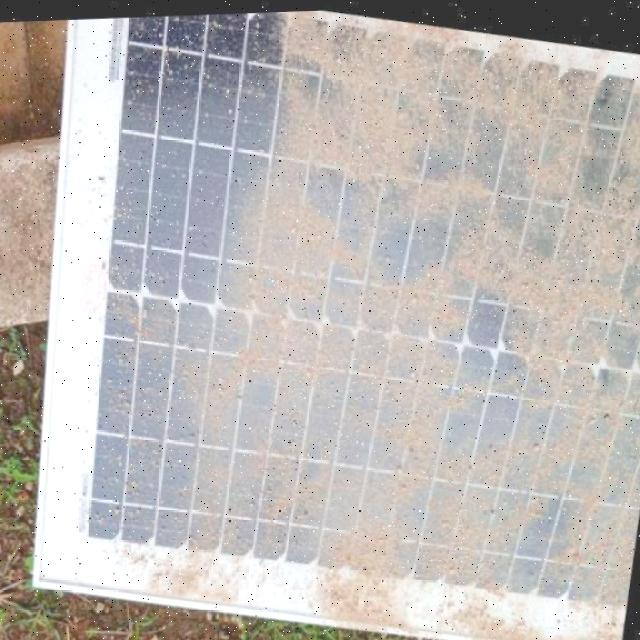Surface Contaminant: (53, 11, 640, 636)
